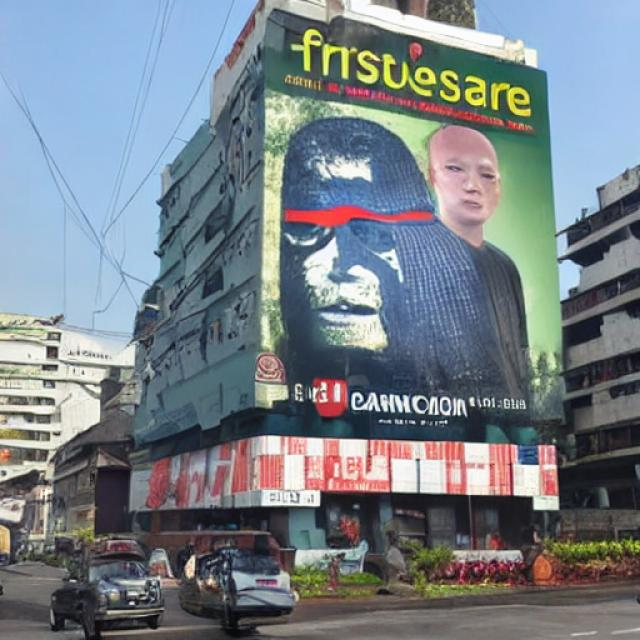Billboard: (263, 5, 579, 436)
